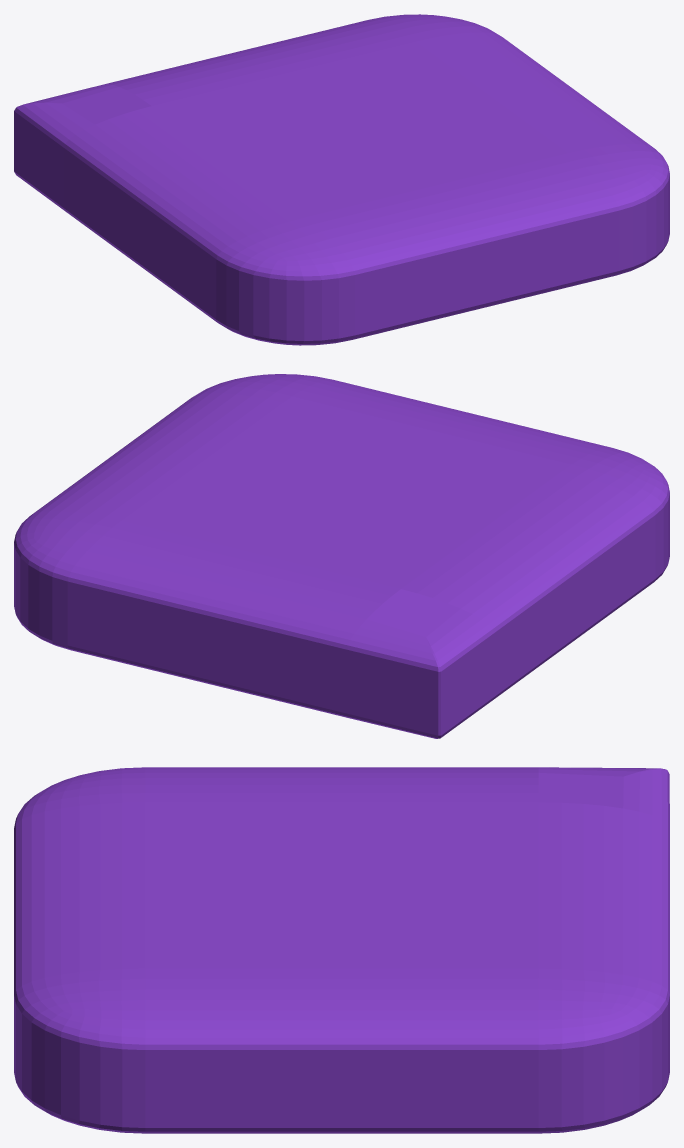
File: cssBg.glb
3 views of the same model, one above another, from view 1: azimuth 30°, elevation 25°; view 2: azimuth 150°, elevation 25°; view 3: azimuth 270°, elevation 25° (orthographic). The views are drawn at different scales.
Parts seen in each view (by area): view 1: cssbg; view 2: cssbg; view 3: cssbg.
Boxes of the visible parts, left/top/right/bottom form: cssbg: left=14, top=14, right=669, bottom=345; cssbg: left=14, top=374, right=669, bottom=738; cssbg: left=14, top=767, right=669, bottom=1133.
Bounding box in the file's own units: 2.16 × 0.472 × 2.16.
